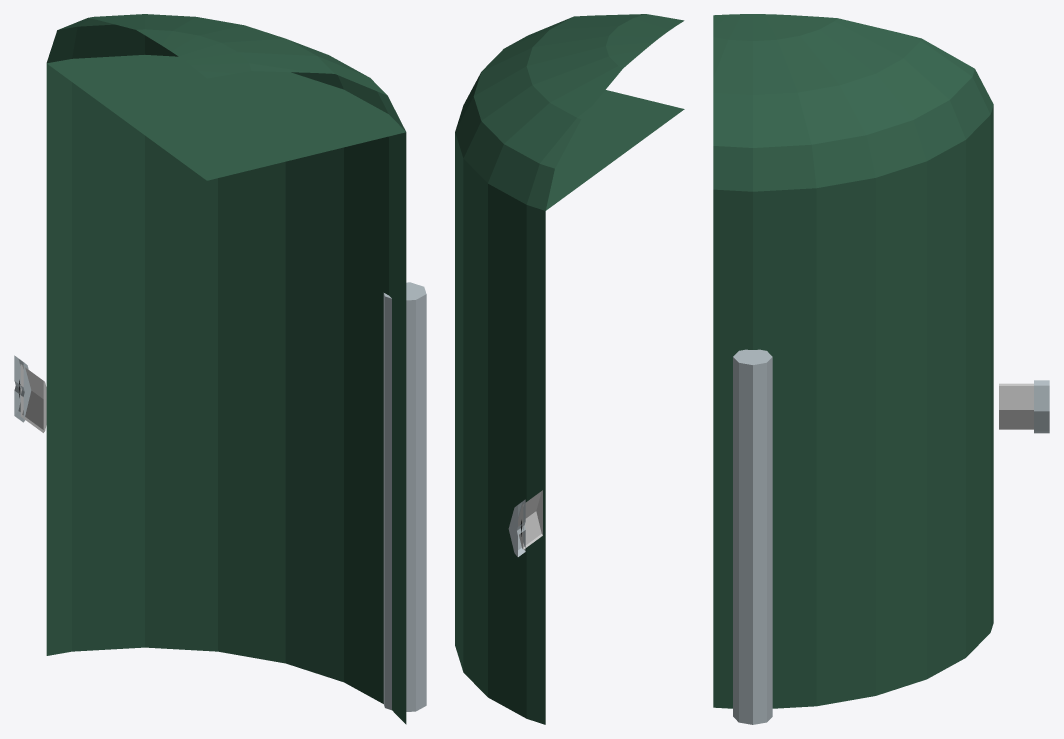
The model's file is cell_29.obj.
The picture shows the model from 3 angles, left to right: view 1: azimuth 30°, elevation 25°; view 2: azimuth 150°, elevation 25°; view 3: azimuth 270°, elevation 25°; orthographic projection. The views are drawn at different scales.
Size of the model in its own units: 0.305 by 0.8458 by 0.424.
